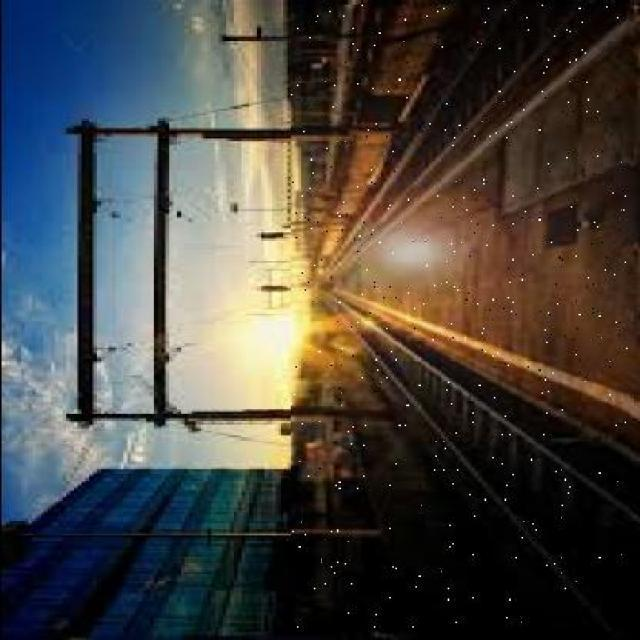rail: (291, 6, 628, 628)
